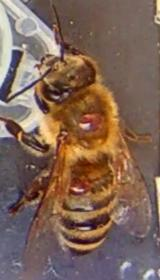varroa_mite: (58, 166, 100, 204), (66, 108, 108, 134)
